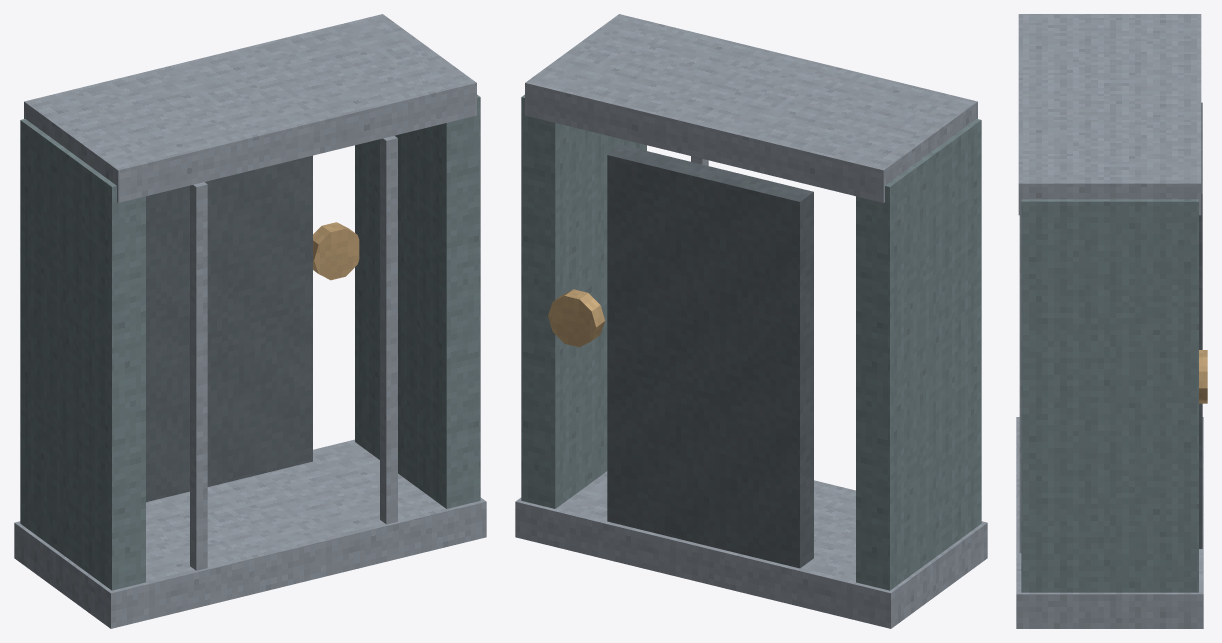
The model's file is level_blockout_research_airlock.glb.
3 renders of one model, left to right at view 1: azimuth 30°, elevation 25°; view 2: azimuth 150°, elevation 25°; view 3: azimuth 270°, elevation 25°, orthographic. The views are drawn at different scales.
Parts seen in each view (by area): view 1: level_blockout_research_airlock; view 2: level_blockout_research_airlock; view 3: level_blockout_research_airlock.
Part boxes in pixels (box(x1,y1,x2,y2)): level_blockout_research_airlock: box(14, 14, 486, 628); level_blockout_research_airlock: box(515, 14, 987, 628); level_blockout_research_airlock: box(1016, 14, 1207, 628).
Bounding box in the file's own units: 2.65 × 3.07 × 1.2.
Materials: 4 (4 with a texture image).
